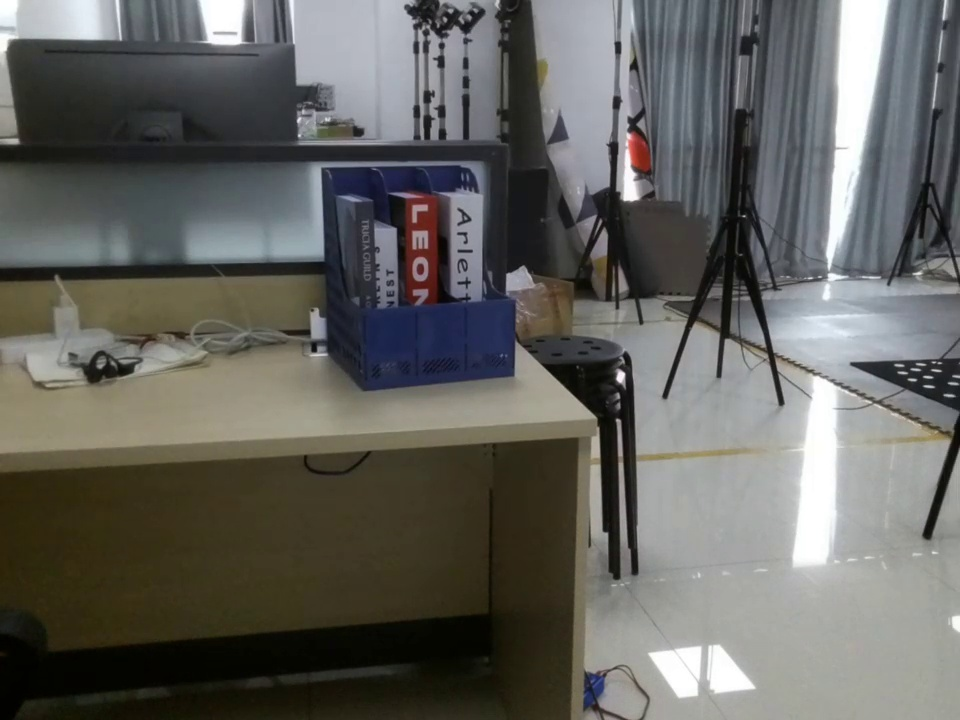files: (318, 164, 517, 393)
